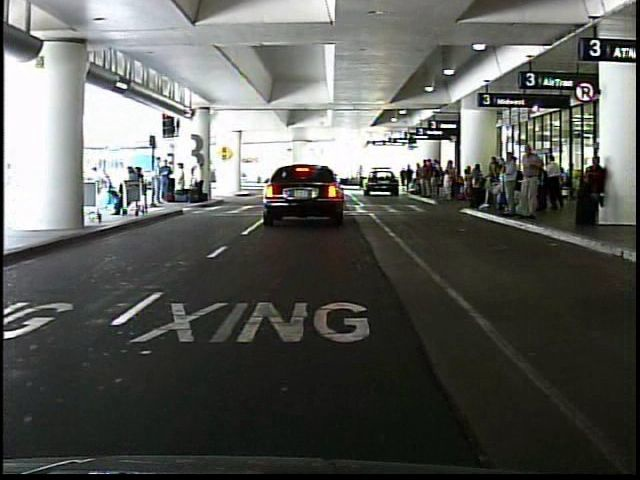person: (516, 137, 544, 225), (574, 150, 605, 229), (543, 152, 566, 211), (500, 149, 519, 217), (95, 155, 115, 213), (161, 155, 176, 203), (191, 158, 206, 201), (176, 161, 189, 202)
